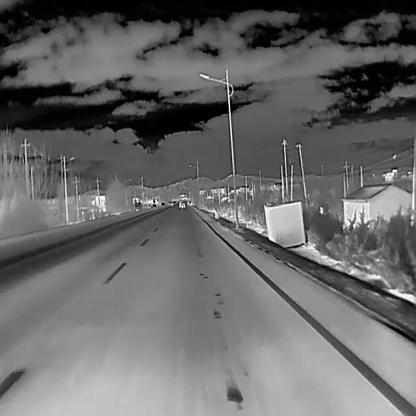car: (132, 202, 141, 212), (178, 200, 185, 209), (151, 204, 156, 207), (160, 202, 164, 205)
